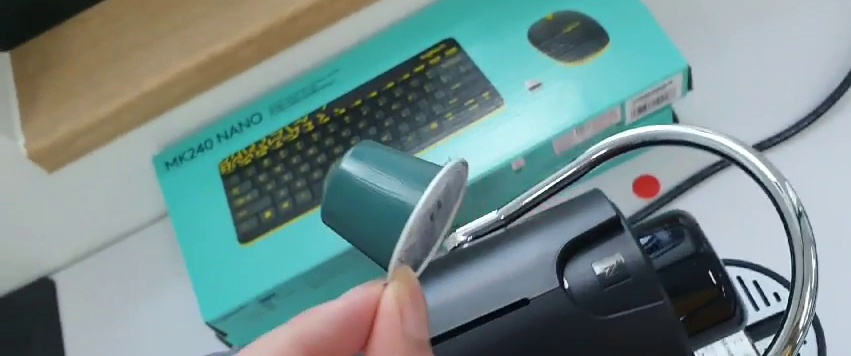capsule_13: (317, 135, 476, 286)
